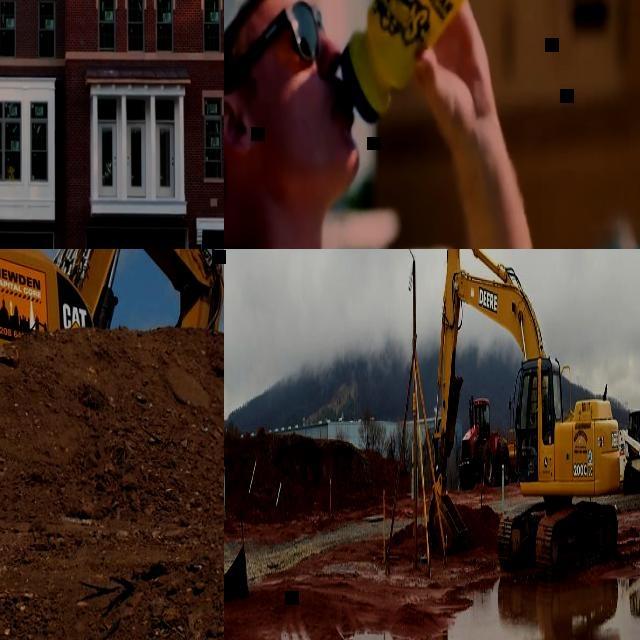Hardhat: (224, 0, 322, 203)
NO-Mask: (224, 68, 359, 202)
Person: (224, 0, 551, 249)
machinery: (429, 249, 622, 572), (0, 249, 224, 454), (458, 395, 518, 487), (619, 408, 640, 492)
